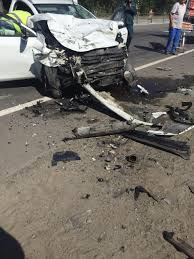car: (1, 6, 164, 103)
